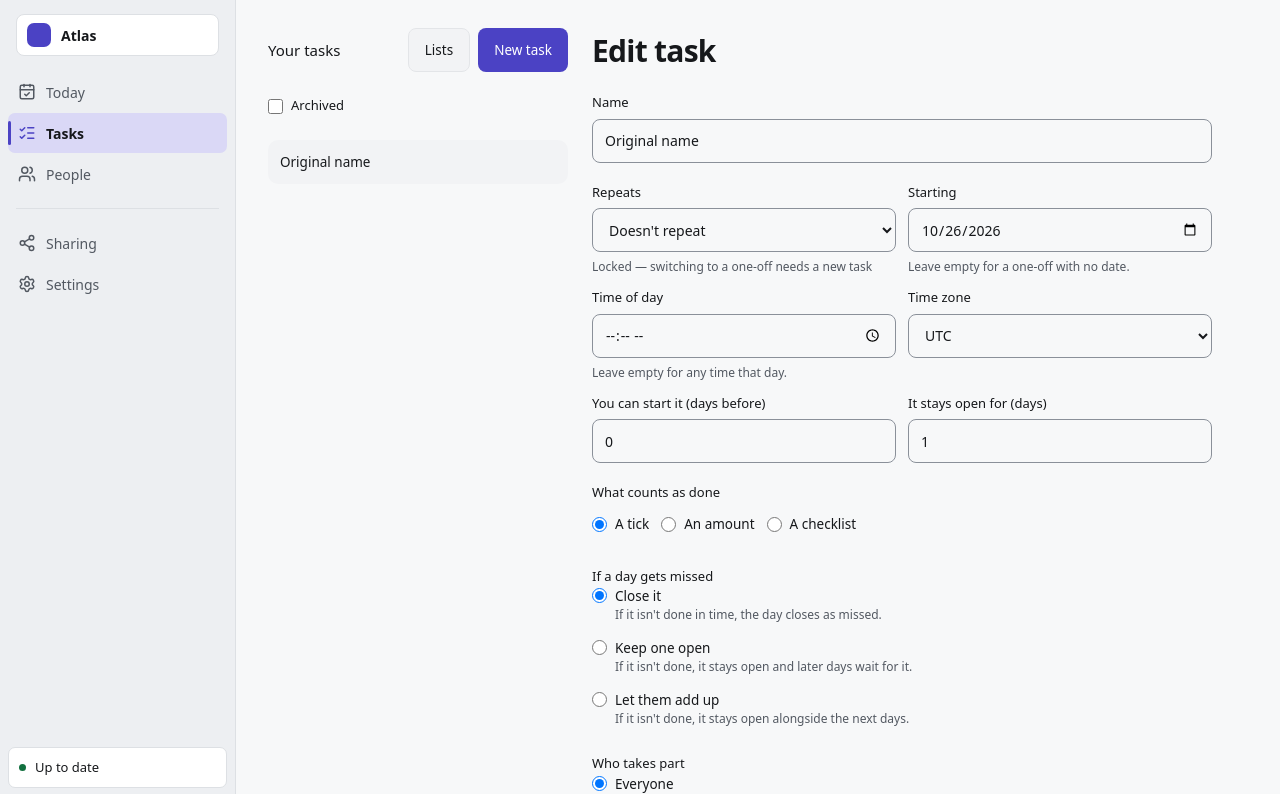
the edit form admits no revision under a known denial (R29) › control: an editor of both queues exactly one revision offline and goes to the task
Replace the text in the field labelled "Name" with "Renamed by editor" at (902, 140), box [592, 118, 1212, 162]
(page scrolled)
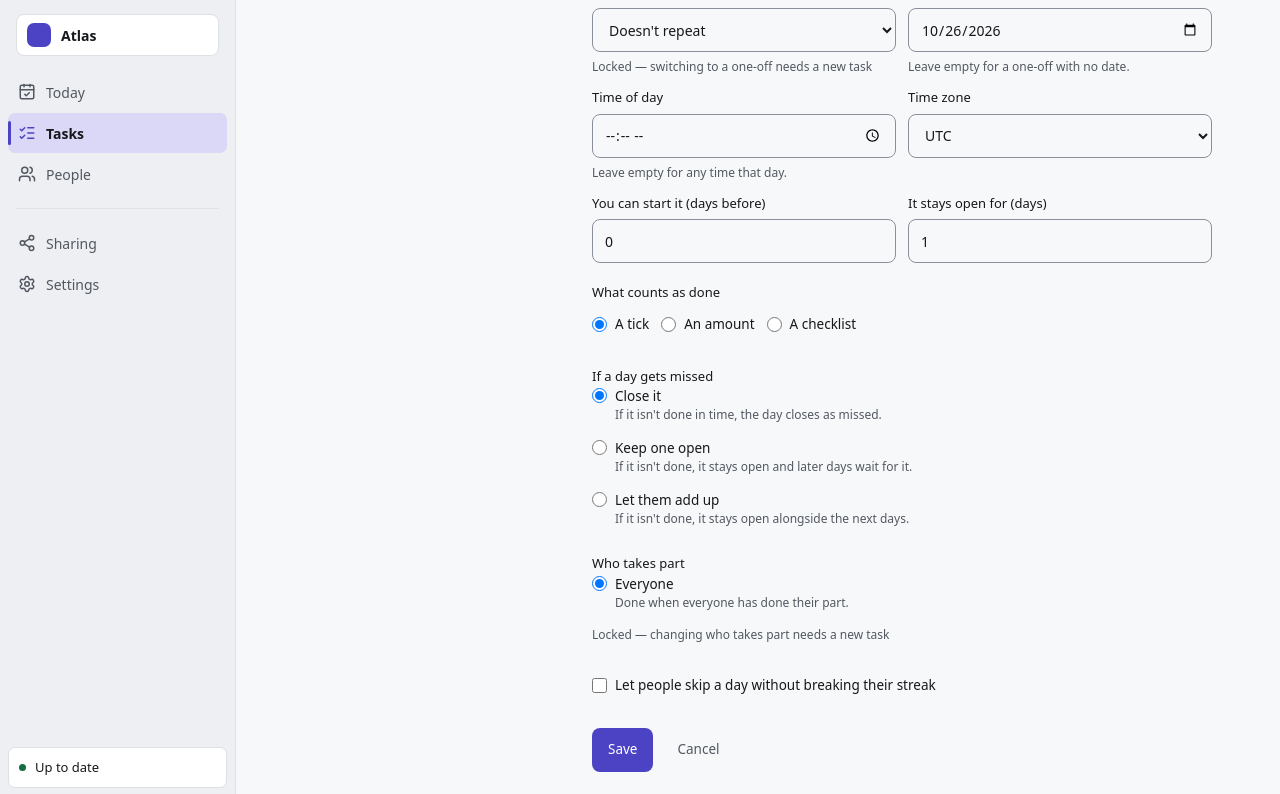
Click the button "Save" at (623, 750), box [592, 728, 654, 772]
(page scrolled)
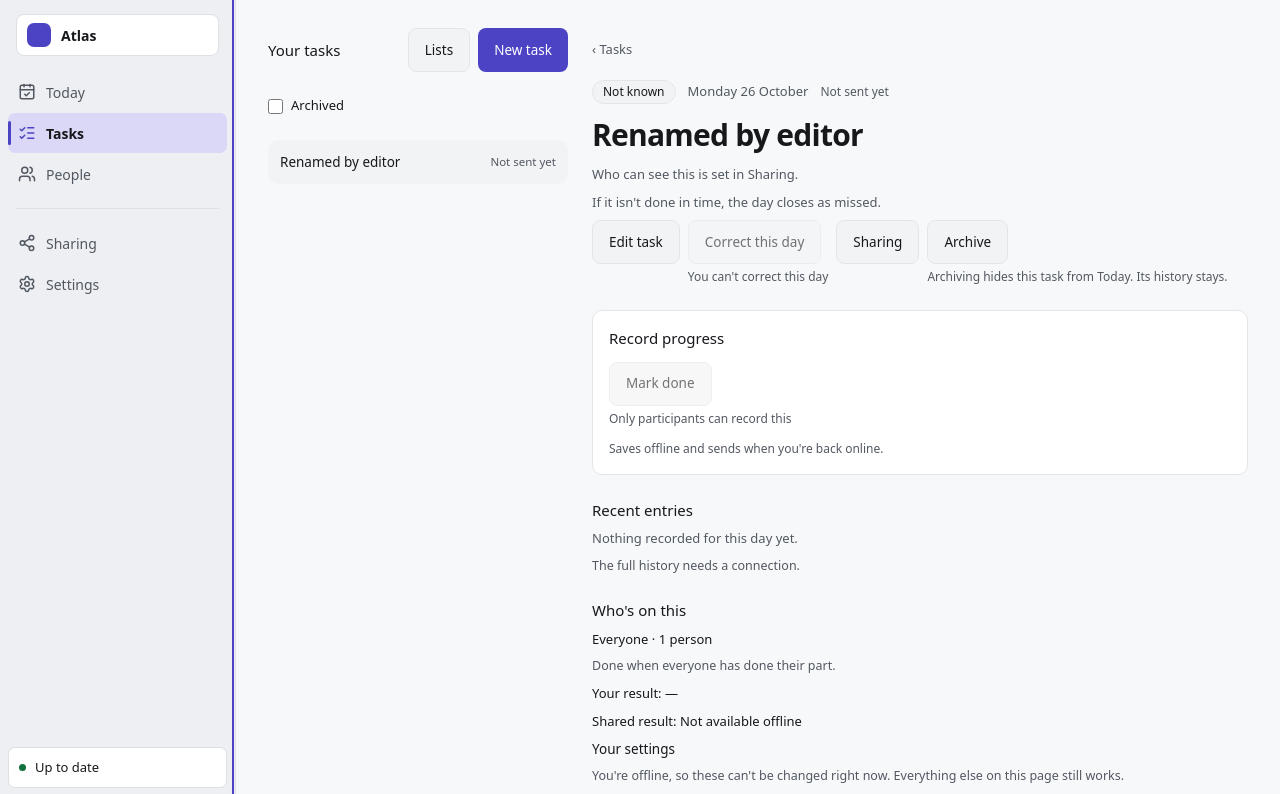
Now the text "Renamed by editor" is shown, box [280, 152, 400, 172]
